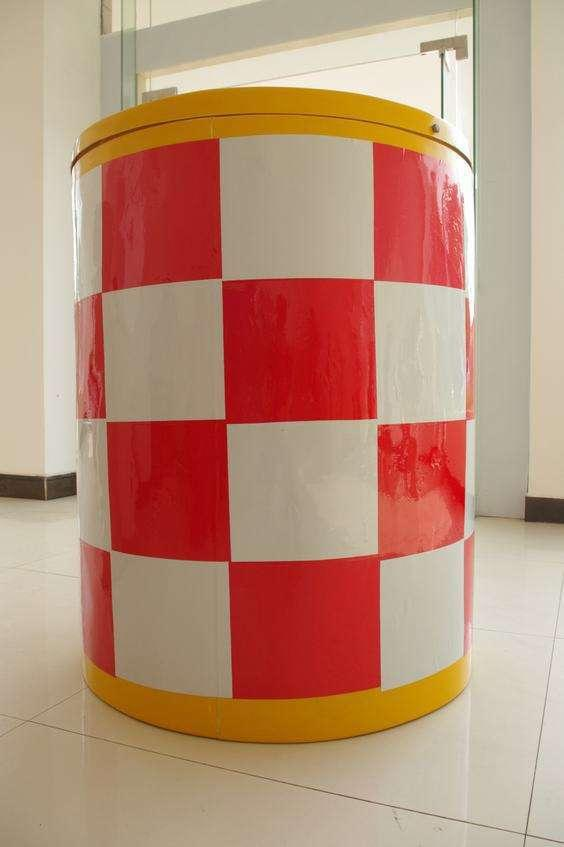sign: (57, 101, 499, 747)
